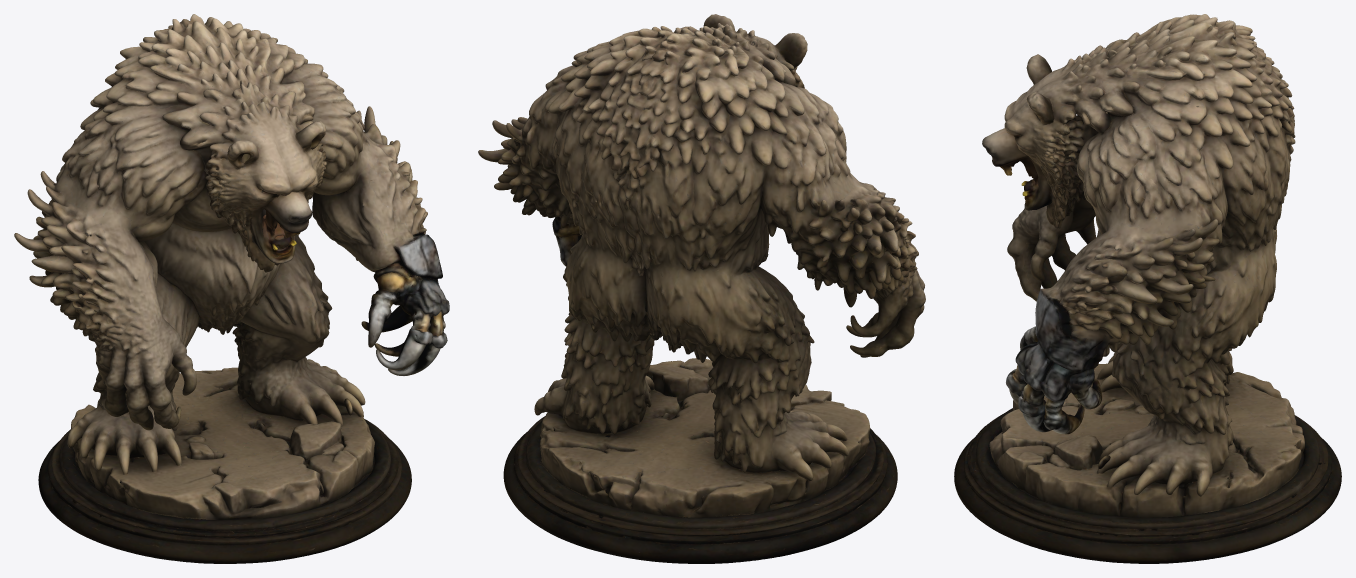
Rendered from generation_werebear_1.glb.
The picture shows the model from 3 angles, left to right: view 1: azimuth 30°, elevation 25°; view 2: azimuth 150°, elevation 25°; view 3: azimuth 270°, elevation 25°; orthographic projection. The views are drawn at different scales.
Visible parts, largest first — view 1: geometry_0; view 2: geometry_0; view 3: geometry_0.
Boxes of the visible parts, left/top/right/bottom form: geometry_0: left=14, top=14, right=449, bottom=563; geometry_0: left=478, top=14, right=925, bottom=563; geometry_0: left=954, top=14, right=1341, bottom=563.
Size of the model in its own units: 0.8922 by 1 by 0.7615.
Materials: 1 (1 with a texture image).
